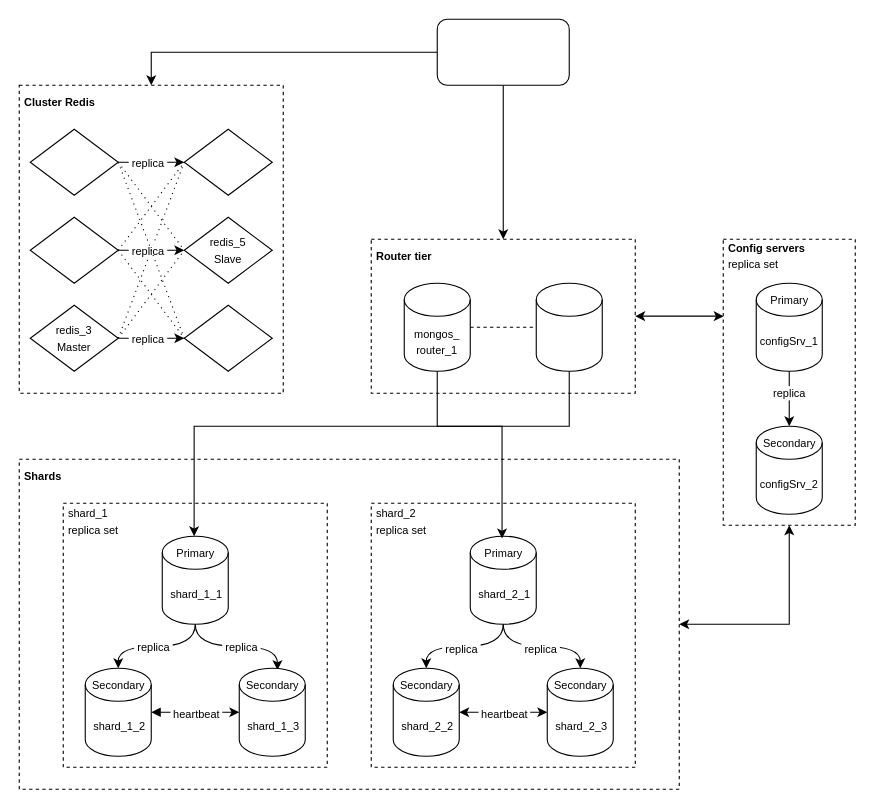
Some shapes in this 875 by 809 pixel diagram are drawn without their labels. The shapes that lost their labels are listed below. From the top down, each one's centre as x and y in pixels, then its label:
At (x=502, y=51): "pymongo_api".
At (x=73, y=161): "redis_1 Master".
At (x=227, y=161): "redis_4 Slave".
At (x=73, y=249): "redis_2 Master".
At (x=227, y=337): "redis_6 Slave".
At (x=568, y=326): "mongos_ router_2".
